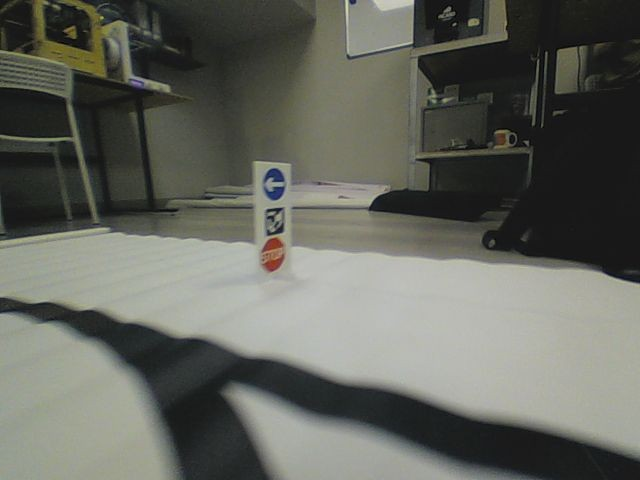Stop: (259, 237, 286, 272)
